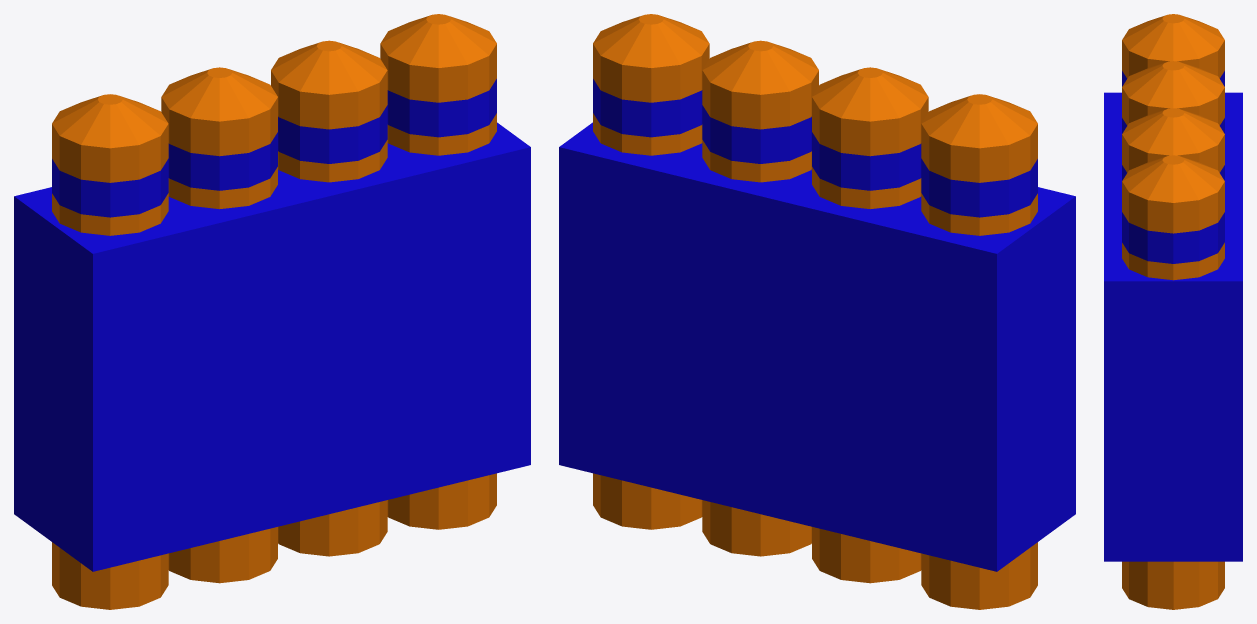
The model's file is nerfgunammo.fbx.
3 renders of one model, left to right at view 1: azimuth 30°, elevation 25°; view 2: azimuth 150°, elevation 25°; view 3: azimuth 270°, elevation 25°, orthographic. The views are drawn at different scales.
Parts seen in each view (by area): view 1: Cube; view 2: Cube; view 3: Cube.
Part boxes in pixels (x1=…): Cube: x1=14, y1=14, x2=530, y2=609; Cube: x1=559, y1=14, x2=1075, y2=609; Cube: x1=1104, y1=14, x2=1242, y2=609.
Size of the model in its own units: 89.68 by 95.06 by 27.95.
